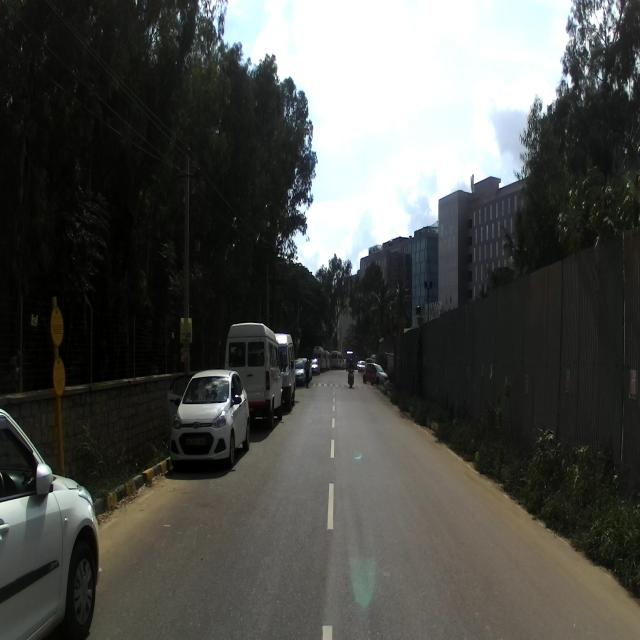car: (0, 407, 101, 638), (167, 367, 250, 470)
